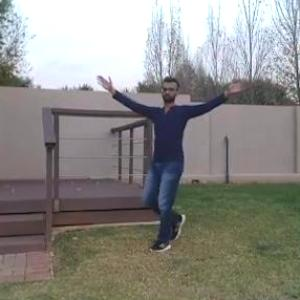takeoff: (94, 68, 253, 260)
